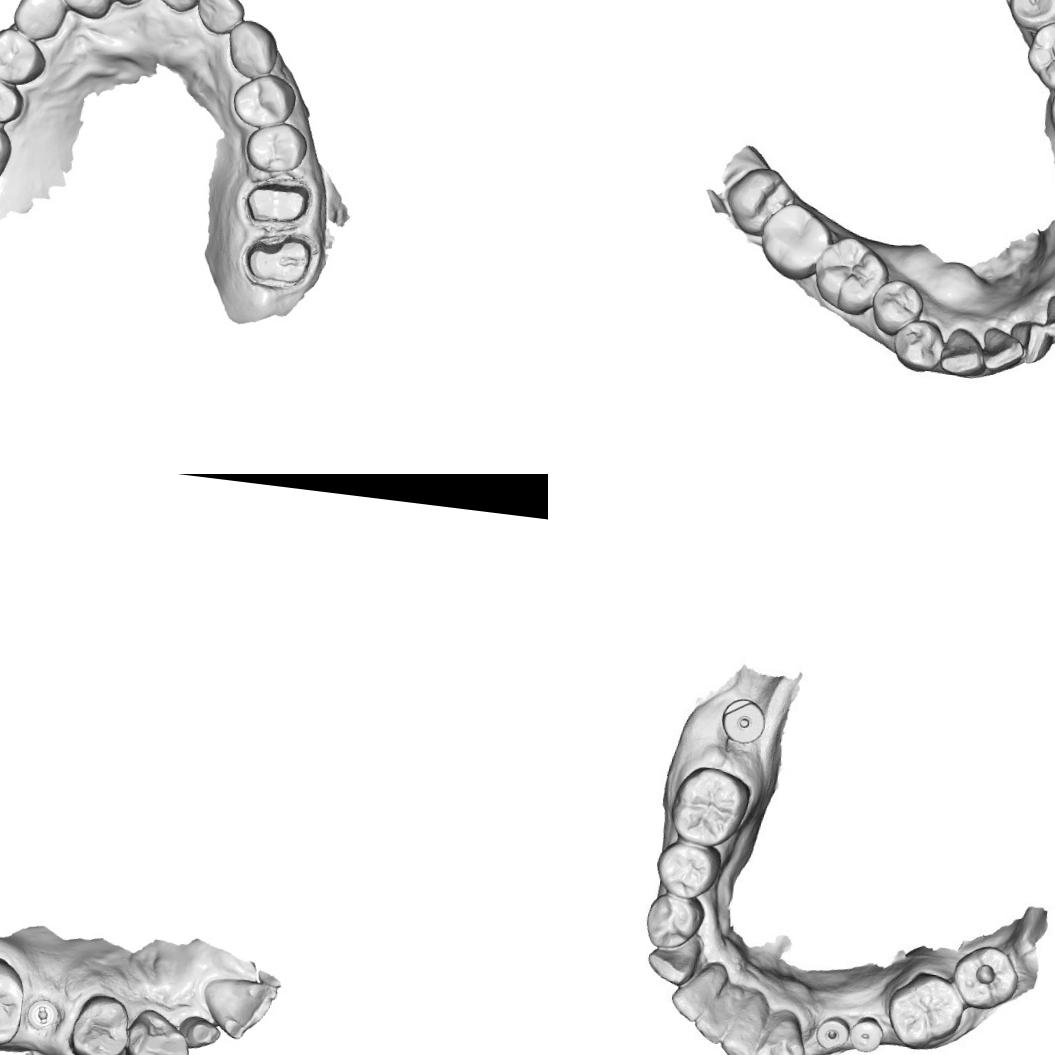canine: (222, 17, 282, 82), (124, 1003, 196, 1055), (642, 937, 704, 989), (936, 330, 989, 384), (9, 0, 69, 44), (753, 1014, 806, 1055)
crown: (240, 229, 314, 291), (239, 175, 314, 230), (178, 1009, 222, 1054)
implant: (718, 694, 767, 749), (814, 1013, 854, 1055), (848, 1015, 886, 1055)
implant_minus: (24, 994, 62, 1035)
incisor: (196, 970, 282, 1046), (664, 963, 722, 1028), (691, 976, 741, 1048), (718, 998, 770, 1055), (982, 324, 1024, 378), (192, 0, 248, 38), (1013, 319, 1055, 365), (53, 0, 114, 21), (147, 0, 208, 16), (1045, 298, 1055, 337)
molar: (664, 760, 754, 852), (882, 966, 968, 1055), (810, 234, 888, 316), (758, 200, 830, 283), (947, 940, 1023, 1014), (720, 165, 790, 241), (0, 950, 30, 1048), (1028, 19, 1055, 85), (1007, 0, 1055, 28), (0, 109, 16, 190)
premolar: (65, 987, 135, 1055), (229, 68, 300, 132), (640, 889, 708, 954), (653, 838, 721, 902), (242, 118, 312, 178), (869, 280, 927, 338), (0, 23, 50, 89), (892, 315, 944, 375), (0, 68, 28, 127)
